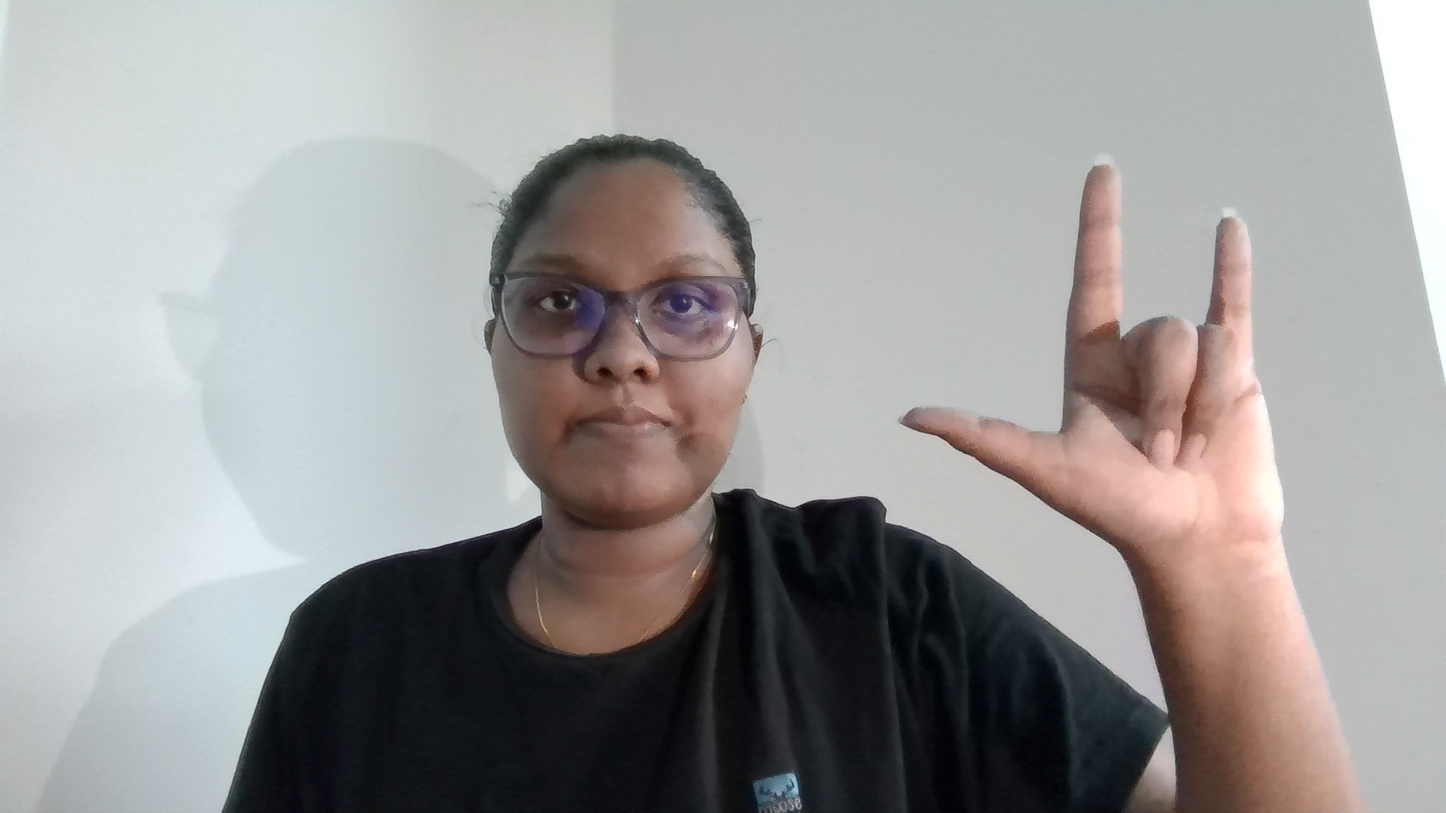Good_Luck: (885, 132, 1406, 683)
